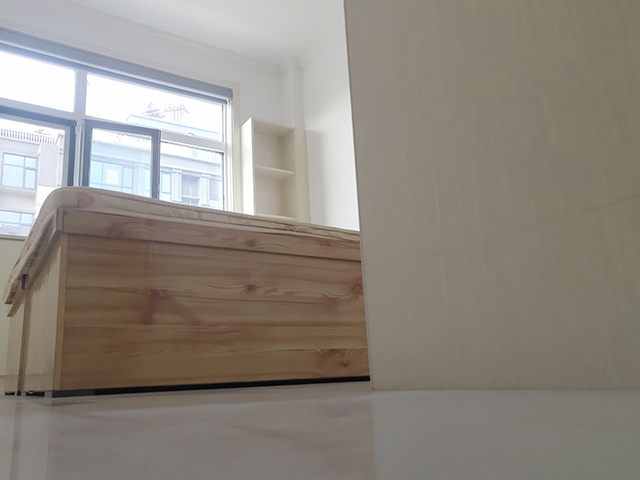bed: (2, 184, 372, 400)
cabinet: (341, 1, 640, 391)
